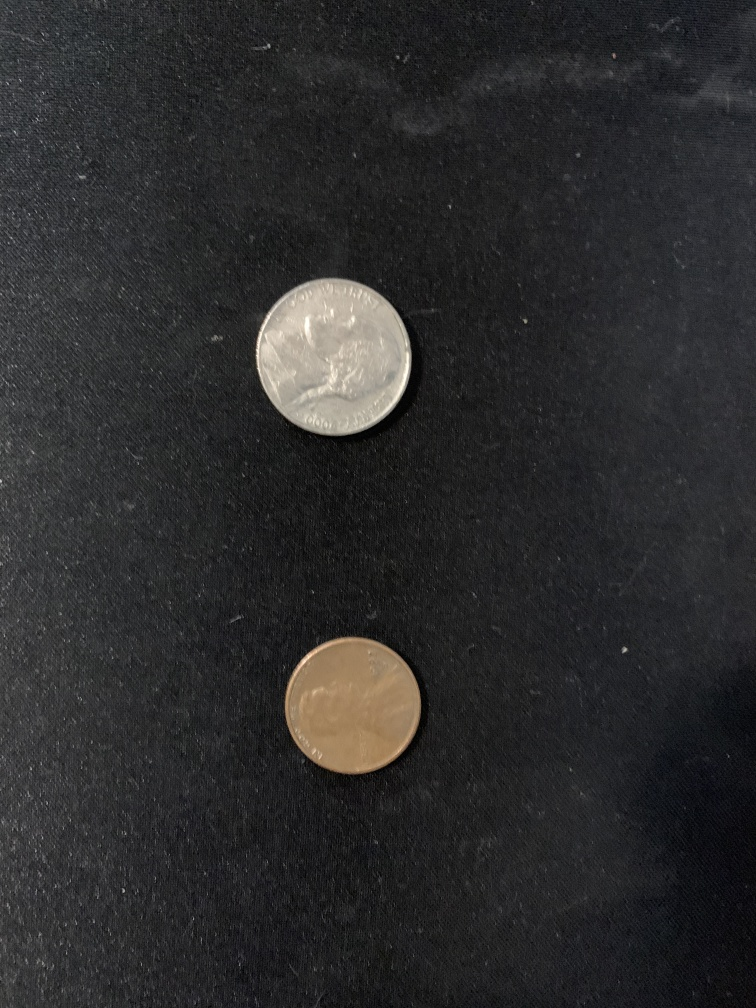nickel: (252, 277, 418, 442)
penny: (278, 627, 431, 788)
